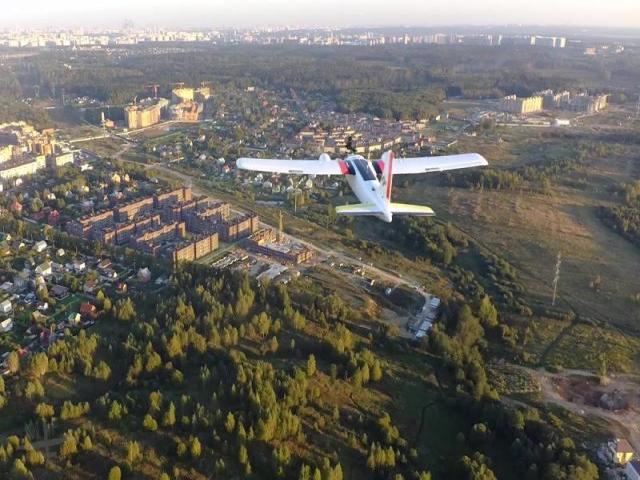hedef: (228, 127, 502, 246)
